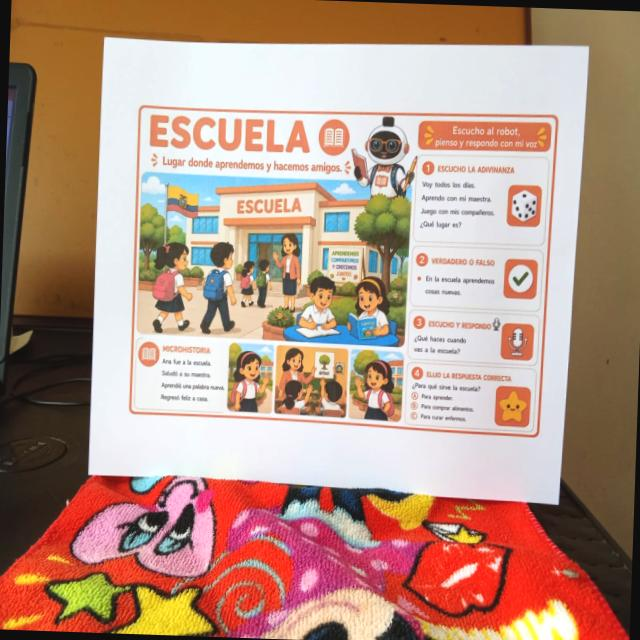escuela: (125, 96, 560, 442)
